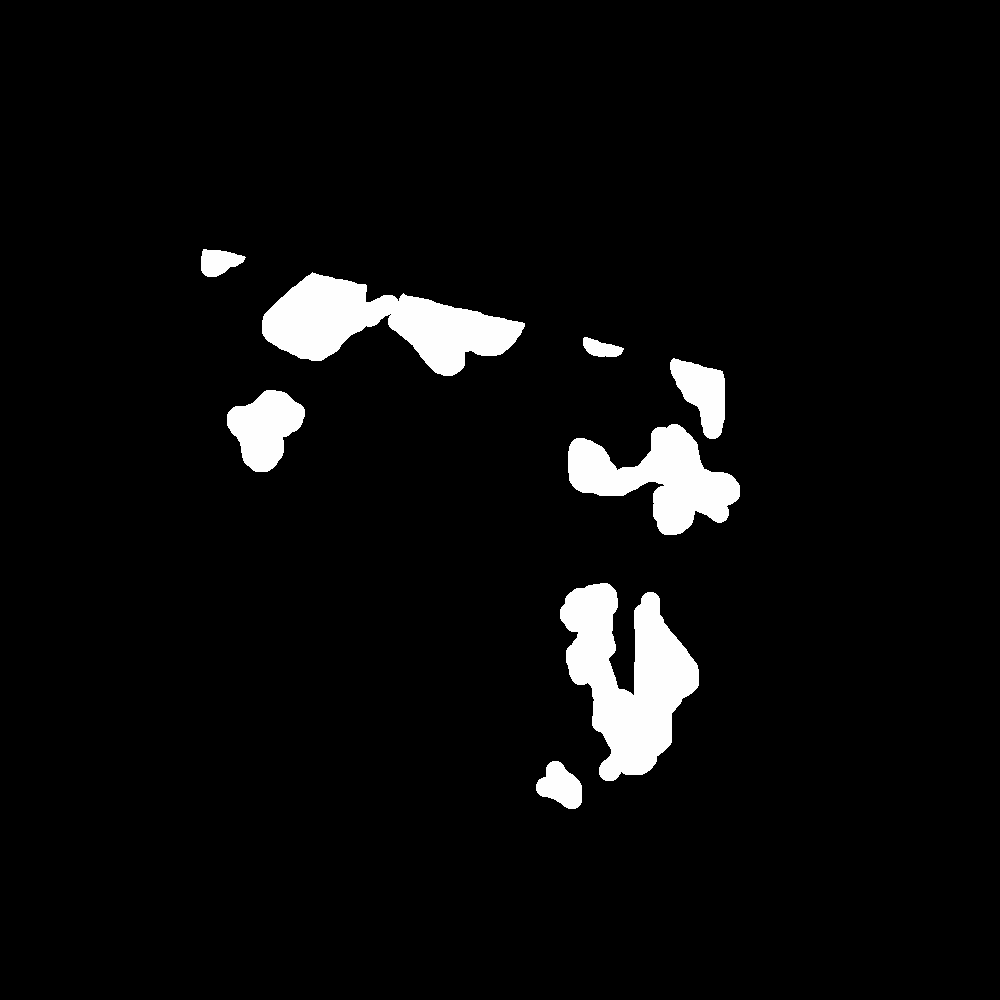illegal: (564, 588, 693, 775), (566, 425, 731, 534), (439, 773, 577, 862), (395, 296, 514, 371), (269, 273, 364, 358), (231, 390, 298, 467), (669, 350, 725, 440), (206, 245, 248, 274), (586, 337, 615, 355)
